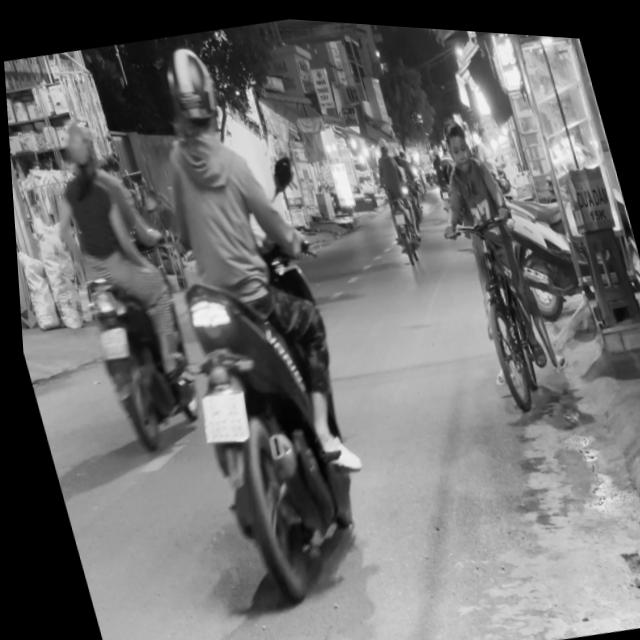helmet: (152, 36, 226, 142), (54, 114, 98, 179)
licenseplate: (94, 21, 394, 606), (25, 101, 212, 459)
nohelmet: (189, 382, 249, 444), (90, 322, 127, 359)
